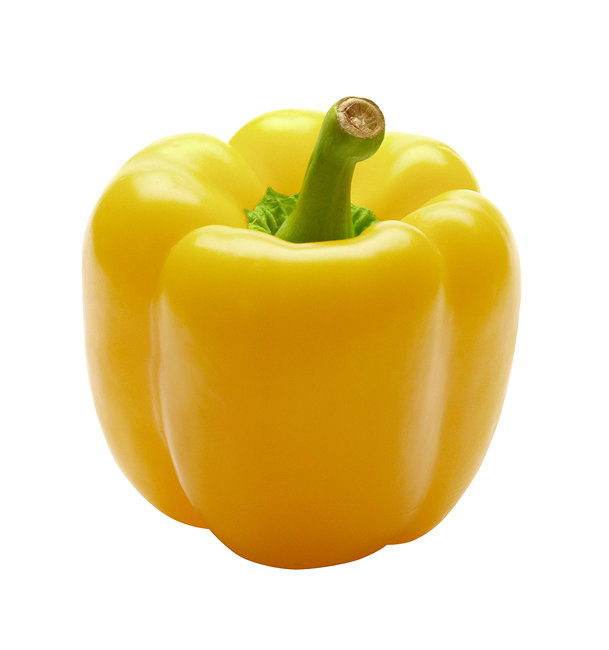capsicum: (87, 96, 519, 568)
